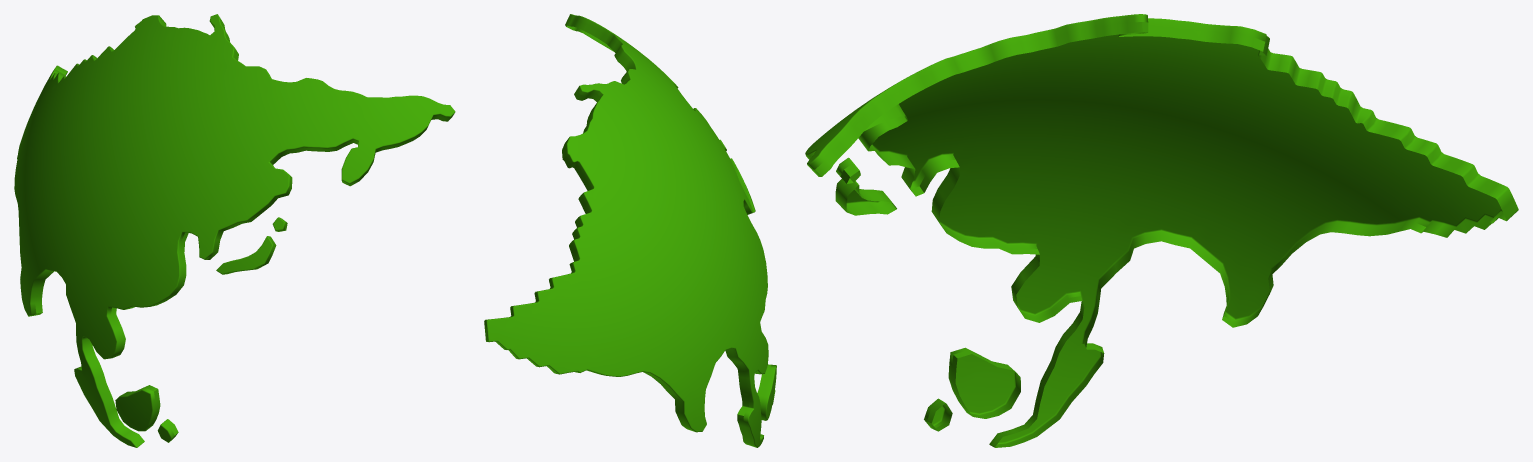
3 views of the same model, side by side, from view 1: azimuth 30°, elevation 25°; view 2: azimuth 150°, elevation 25°; view 3: azimuth 270°, elevation 25° (orthographic). The views are drawn at different scales.
Visible parts, largest first — view 1: c2; view 2: c2; view 3: c2.
Part boxes in pixels (x1,y1,x2,y2): c2: (14, 14, 455, 447); c2: (484, 14, 776, 447); c2: (805, 14, 1518, 447).
Size of the model in its own units: 0.9121 by 1.12 by 1.38.
